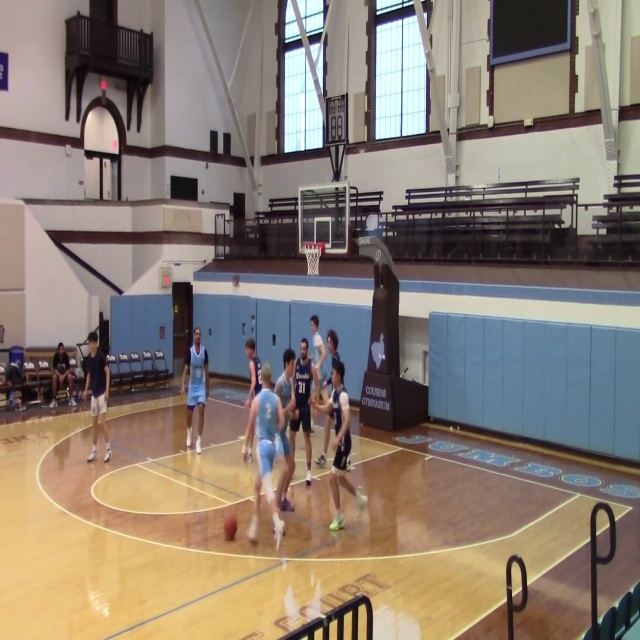Basketball: (223, 514, 237, 540)
